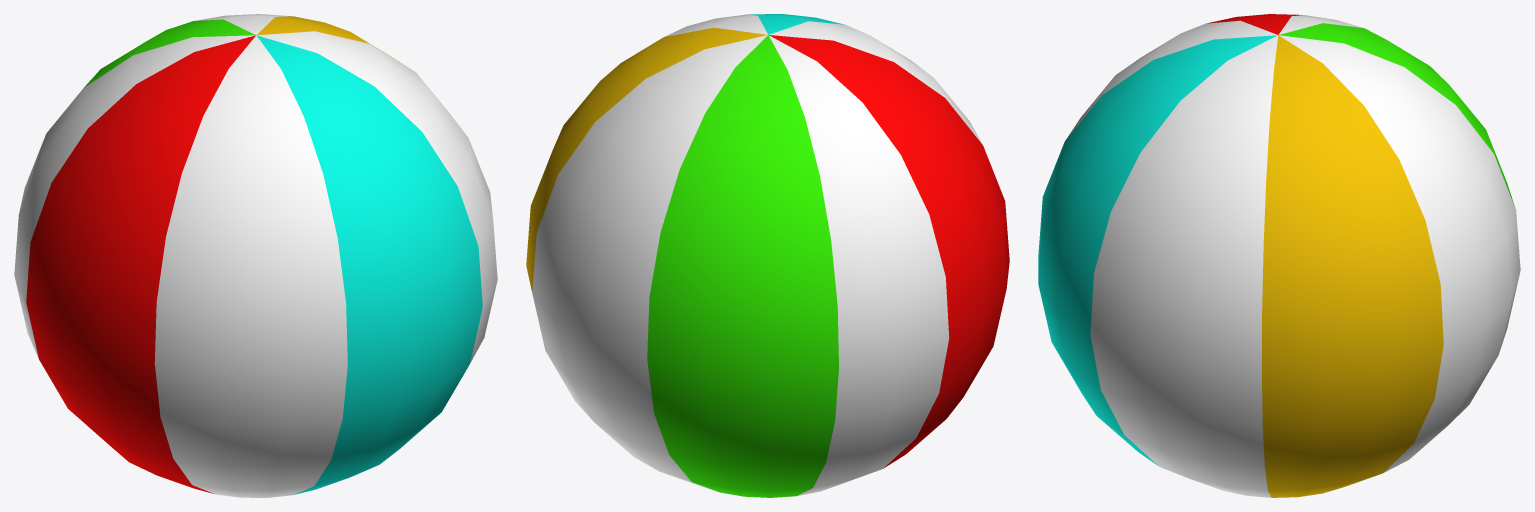
The model's file is ballon de plage.fbx.
The picture shows the model from 3 angles, left to right: view 1: azimuth 30°, elevation 25°; view 2: azimuth 150°, elevation 25°; view 3: azimuth 270°, elevation 25°; orthographic projection.
Visible parts, largest first — view 1: Sphere001; view 2: Sphere001; view 3: Sphere001.
Boxes of the visible parts, x1=… form: Sphere001: x1=14, y1=14, x2=497, y2=497; Sphere001: x1=526, y1=14, x2=1009, y2=497; Sphere001: x1=1038, y1=14, x2=1520, y2=497.
Size of the model in its own units: 41.53 by 41.72 by 41.43.
